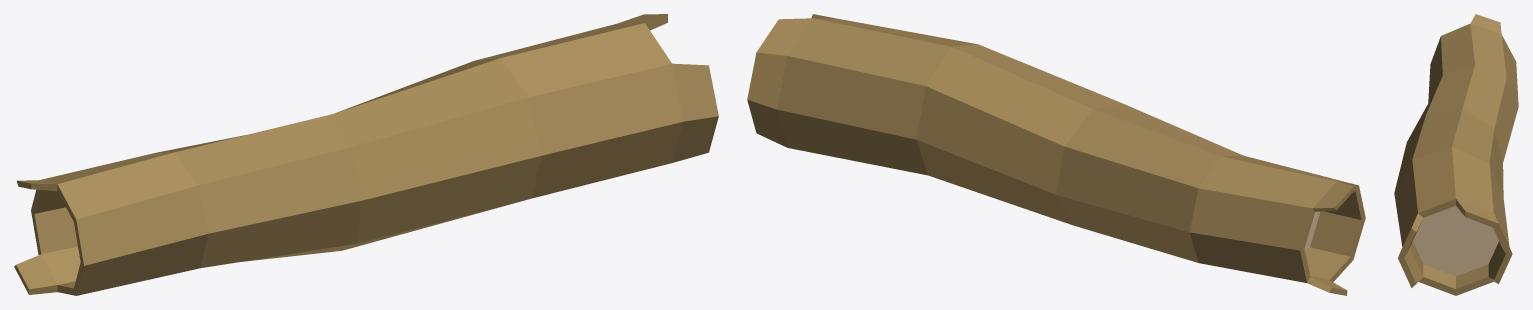
File: Oak_Log_06_LOD.fbx
3 renders of one model, left to right at view 1: azimuth 30°, elevation 25°; view 2: azimuth 150°, elevation 25°; view 3: azimuth 270°, elevation 25°, orthographic. The views are drawn at different scales.
Visible parts, largest first — view 1: Oak_Log_06_LOD0; view 2: Oak_Log_06_LOD0; view 3: Oak_Log_06_LOD0.
Part boxes in pixels (x1,y1,x2,y2): Oak_Log_06_LOD0: (14,14,718,295); Oak_Log_06_LOD0: (747,14,1365,295); Oak_Log_06_LOD0: (1394,14,1518,295).
Size of what is drawn, in the model's own units: 258 by 58.79 by 63.7.
